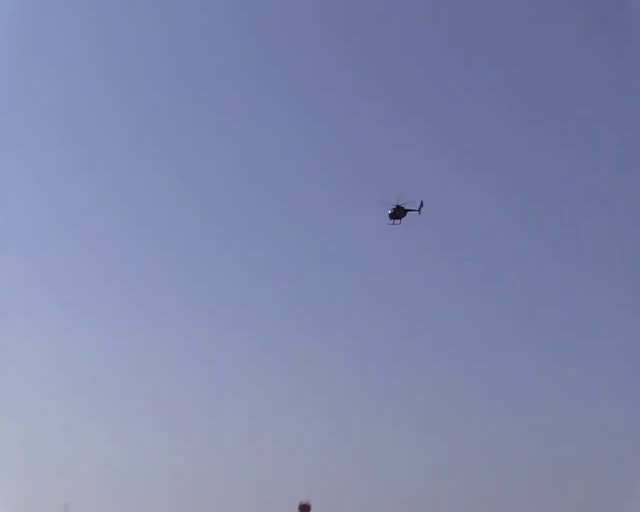HELICOPTER: (387, 198, 424, 225)
